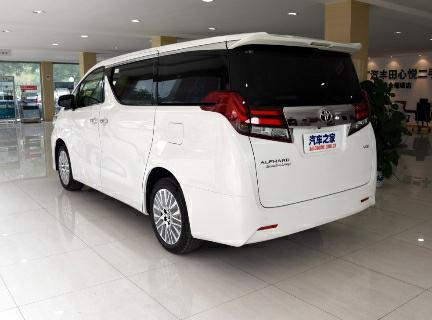丰田-埃尔法: (45, 32, 386, 260)
